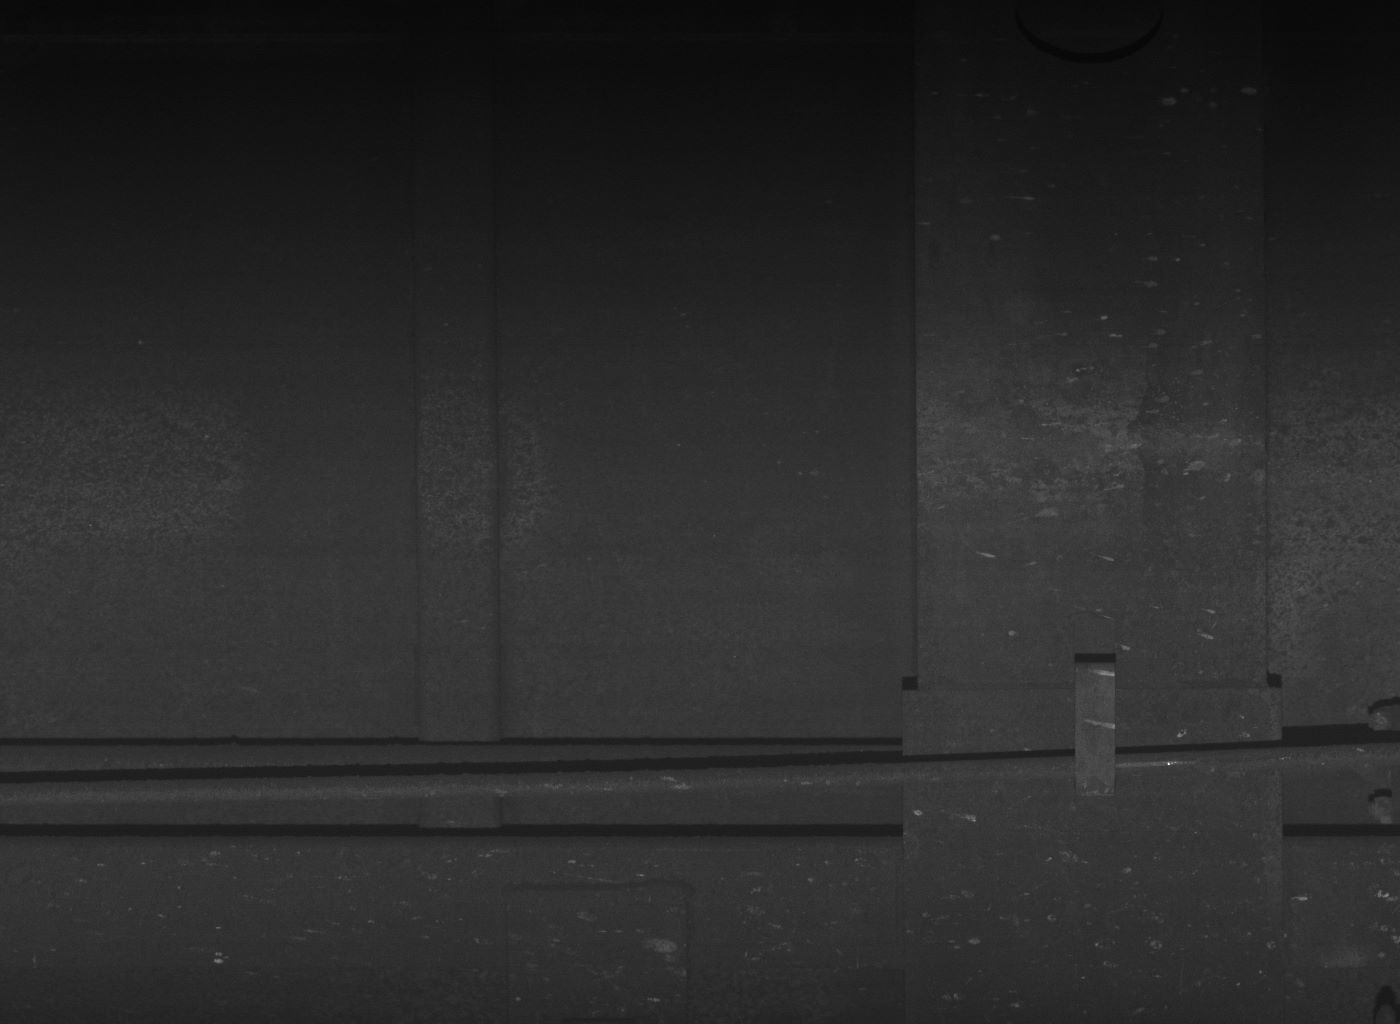normal: (1070, 664, 1118, 800)
